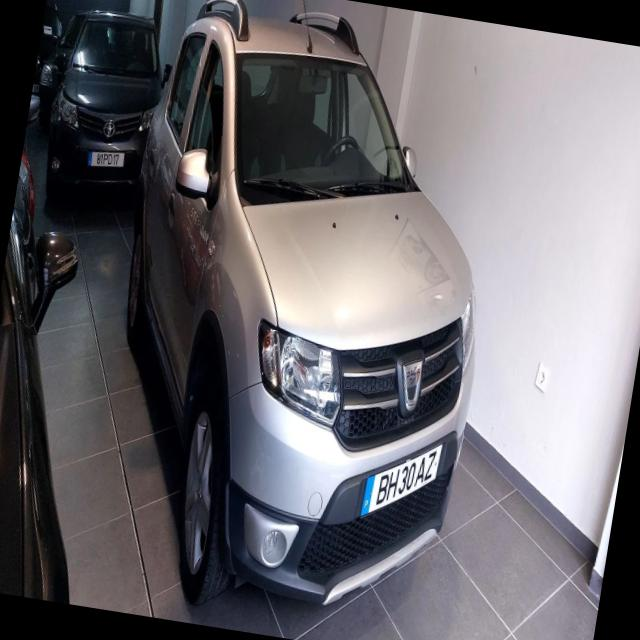portuguese-license-plates: (358, 436, 447, 528)
